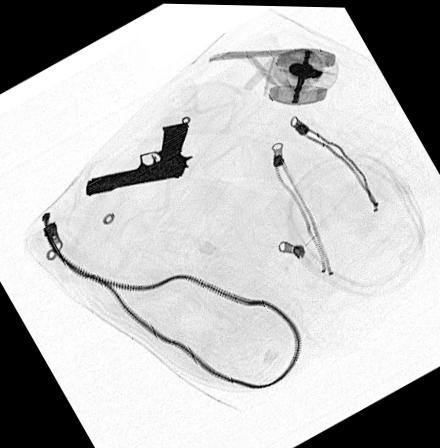Gun: (84, 118, 194, 196)
